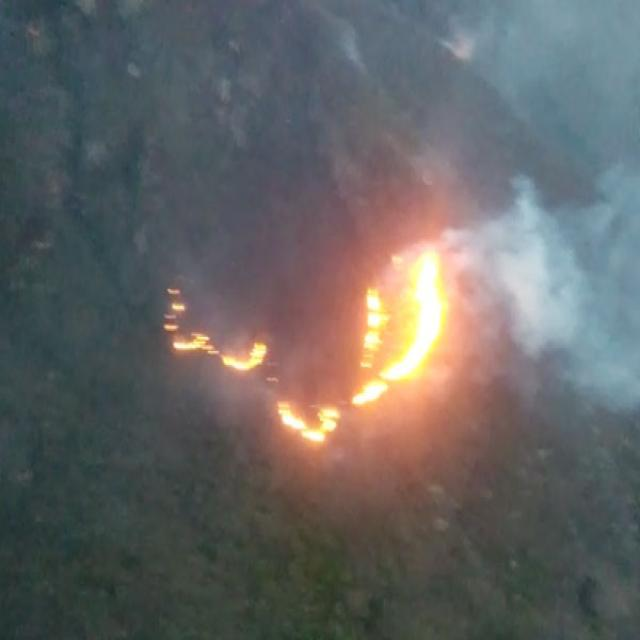Fire: (347, 250, 446, 410), (160, 287, 265, 373), (270, 394, 340, 442)
Smoke: (451, 140, 640, 398)
